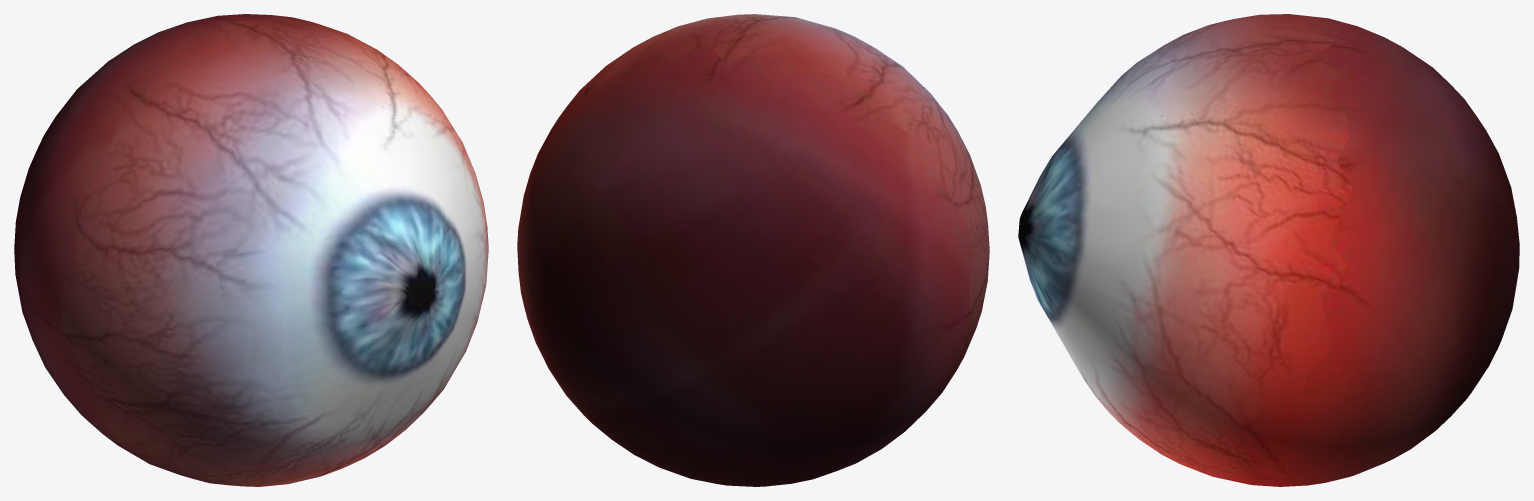
Rendered from eye-model-3d.glb.
3 renders of one model, left to right at view 1: azimuth 30°, elevation 25°; view 2: azimuth 150°, elevation 25°; view 3: azimuth 270°, elevation 25°, orthographic.
Parts seen in each view (by area): view 1: Eye; view 2: Eye; view 3: Eye.
Boxes of the visible parts, x1=… form: Eye: x1=14, y1=14, x2=488, y2=486; Eye: x1=517, y1=14, x2=989, y2=486; Eye: x1=1018, y1=14, x2=1519, y2=486.
Size of the model in its own units: 0.1977 by 0.1976 by 0.2095.
Materials: 1 (1 with a texture image).
